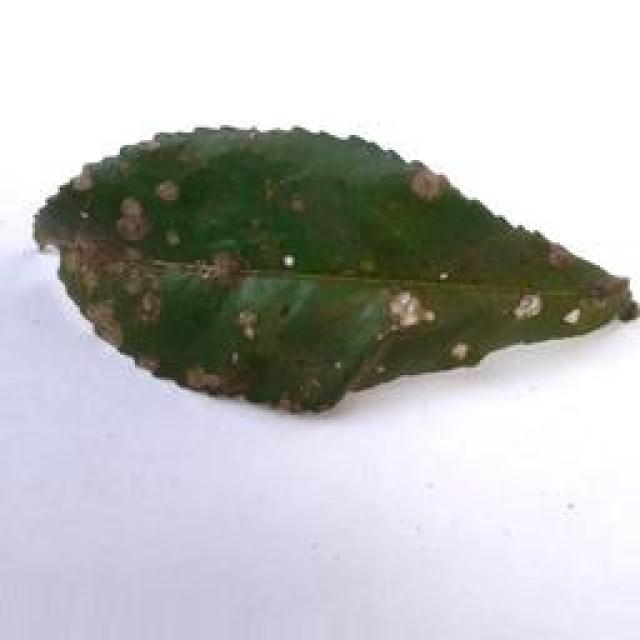Algal Leaf Spot: (23, 114, 640, 420)
